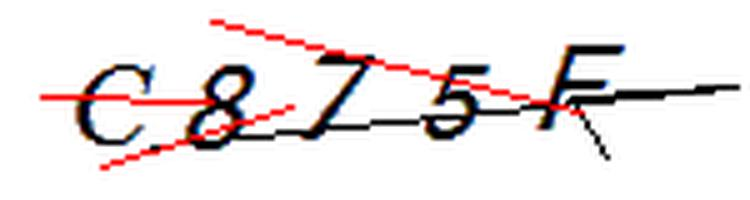5: (412, 55, 504, 146)
7: (292, 44, 381, 148)
8: (180, 56, 259, 154)
C: (66, 50, 166, 157)
F: (530, 31, 637, 143)
